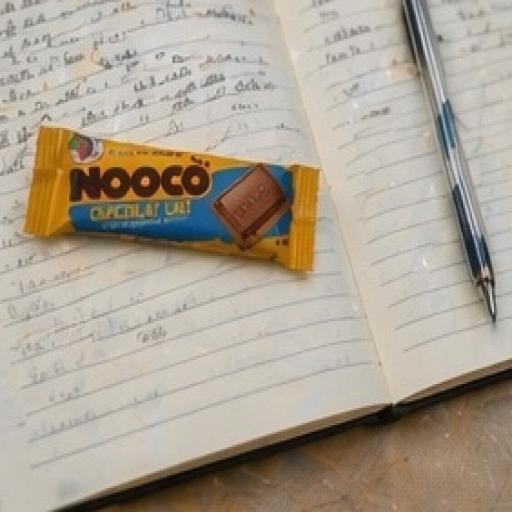nooco: (2, 95, 324, 308)
